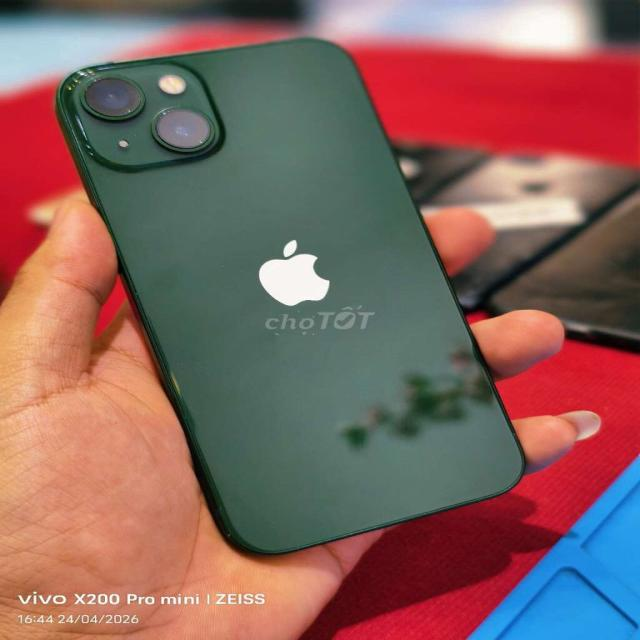gen_12_13: (53, 31, 532, 558)
